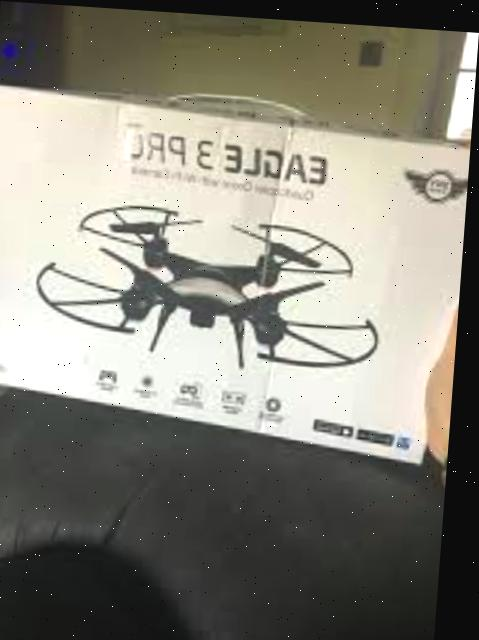drone: (24, 192, 392, 380)
